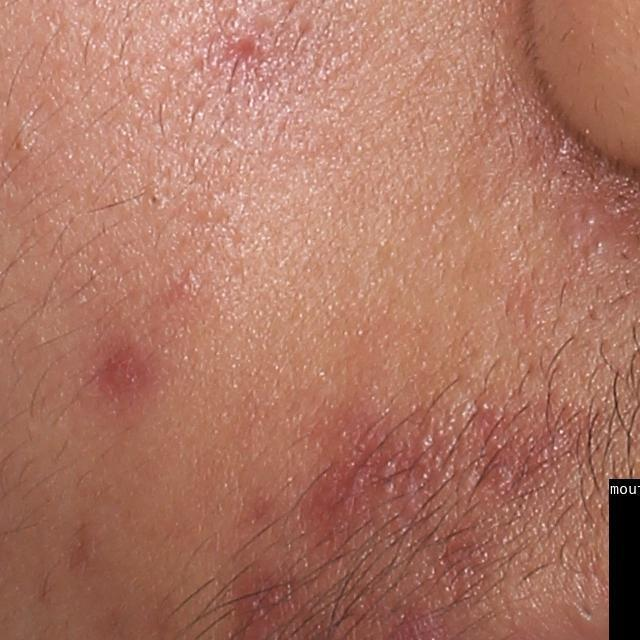comedo: (7, 125, 35, 155), (142, 187, 164, 211)
